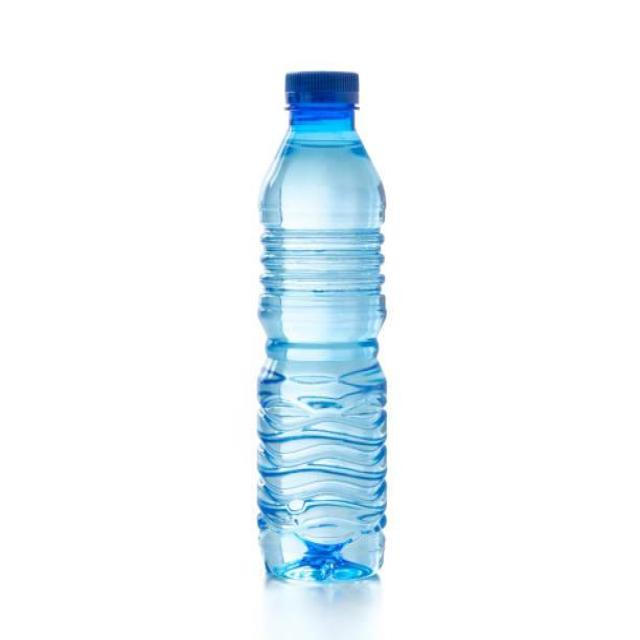bottle: (254, 74, 391, 593)
